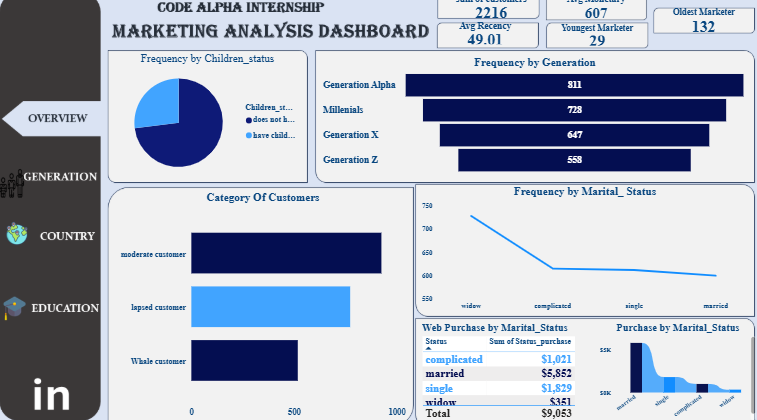

The page's visual inventory and layout, read from the dashboard file:
{"tool":"powerbi","page":{"name":"Page 6","canvas":[1280,720],"ordinal":5},"visuals":[{"type":"lineChart","fields":{"Category":["Marital status web purchase.Status"],"Y":["Sum(Marital status web purchase.Status_purchase)"]},"box":[10.1,0,384.7,280.5],"z":0},{"type":"card","title":"Oldest Marketer","fields":{"Values":["Sum(oldest marketer.oldest_marketer)"]},"box":[87.3,280.5,142.8,53.8],"z":1000},{"type":"card","title":"SUM OF CUSTOMERS","fields":{"Values":["Sum(Total no of customers.count(Customer_ID))"]},"box":[425,112.5,384.7,84],"z":2000},{"type":"card","title":"YOUNGEST MARKETER","fields":{"Values":["Sum(youngest marketer.youngest_marketer)"]},"box":[62.2,488.8,168,43.7],"z":3000},{"type":"funnel","title":"Frequency by Generation","fields":{"Category":["avg_Generation_frequency.Generation"],"Y":["Sum(avg_Generation_frequency.Generation_frequency)"]},"box":[334.3,196.5,475.4,336],"z":4000},{"type":"lineChart","title":"Frequency by Marital_ Status","fields":{"Category":["avg_marital_frequency.status"],"Y":["Sum(avg_marital_frequency.status_frequency)"]},"box":[532.5,196.5,747.5,336],"z":5000},{"type":"clusteredColumnChart","fields":{"Y":["Sum(Response by Marital-status.Marital_Response)"],"Category":["Response by Marital-status.status"]},"box":[532.5,542.5,747.5,177.5],"z":6000},{"type":"tableEx","title":"Web Purchase by Marital_Status","fields":{"Values":["Marital status web purchase.Status","Sum(Marital status web purchase.Status_purchase)"]},"box":[532.5,0,277.2,149.5],"z":7000}]}

Visuals, with their boxes on the page's 1280x720 design canvas (x1, y1, x2, y2). These are canvas units, not pixel positions in the 757x420 screenshot, which may show the page scaled, cropped or inside an application window:
lineChart - Marital status web purchase.Status x Sum(Marital status web purchase.Status_purchase): (x1=10, y1=0, x2=395, y2=280)
"Oldest Marketer" card: (x1=87, y1=280, x2=230, y2=334)
"SUM OF CUSTOMERS" card: (x1=425, y1=112, x2=810, y2=196)
"YOUNGEST MARKETER" card: (x1=62, y1=489, x2=230, y2=532)
"Frequency by Generation" funnel: (x1=334, y1=196, x2=810, y2=532)
"Frequency by Marital_ Status" lineChart: (x1=532, y1=196, x2=1280, y2=532)
clusteredColumnChart - Sum(Response by Marital-status.Marital_Response) x Response by Marital-status.status: (x1=532, y1=542, x2=1280, y2=720)
"Web Purchase by Marital_Status" tableEx: (x1=532, y1=0, x2=810, y2=150)
